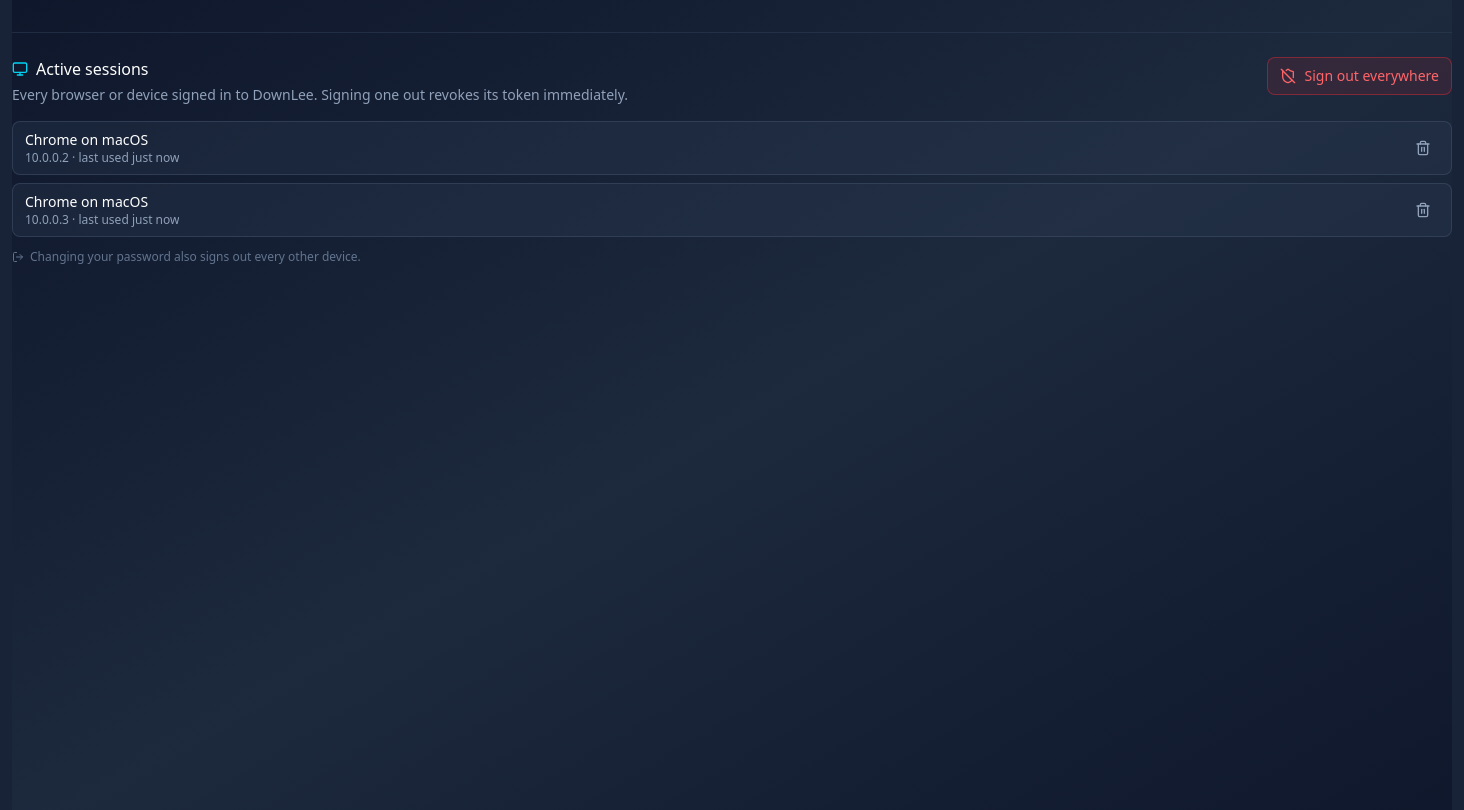
it: SessionsSettings › signing one device out revokes it and reloads the list
Click the button titled "Sign this device out" in the row of "10.0.0.3".
click(1423, 210)  # box left=1407, top=194, right=1439, bottom=226
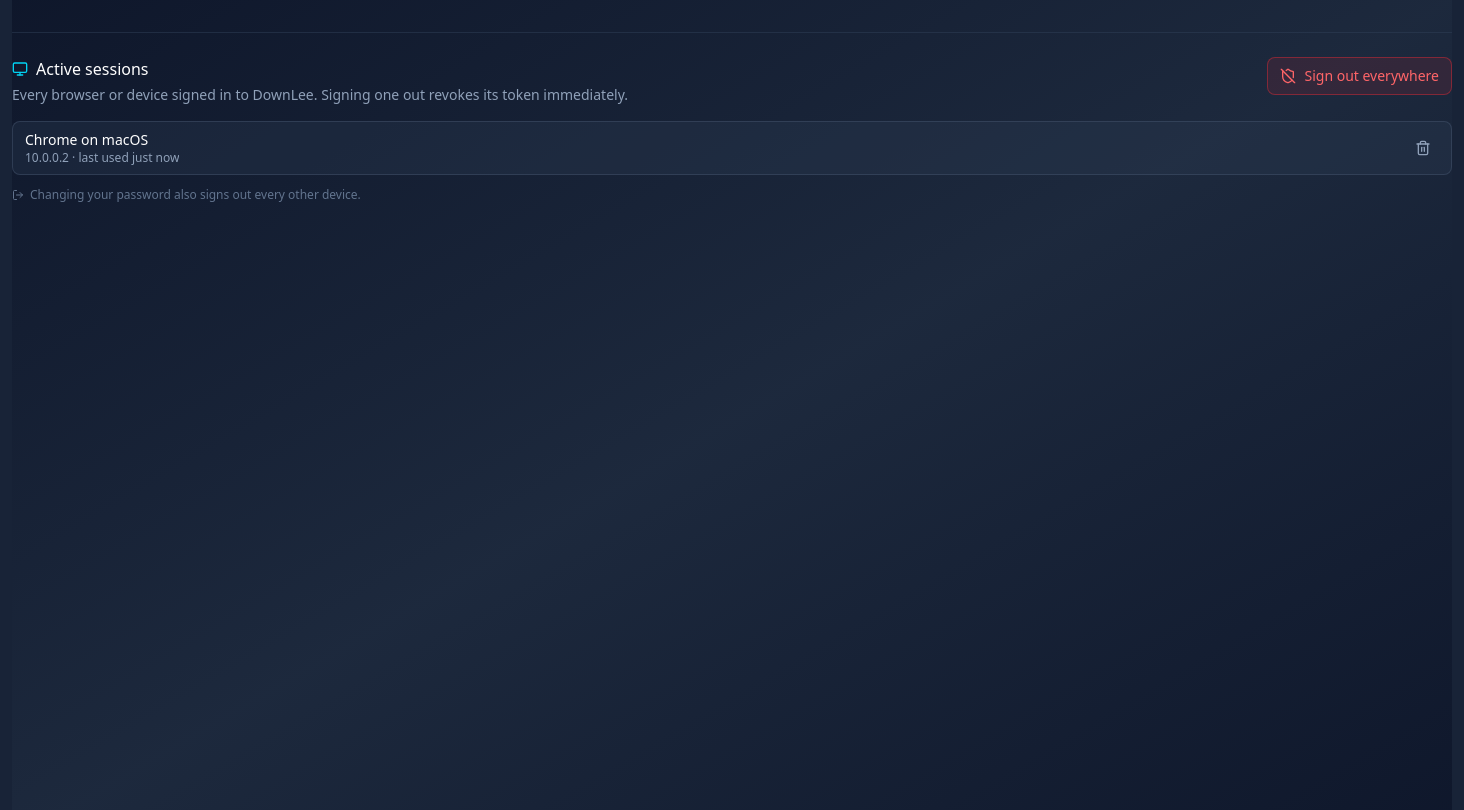
Expected: the number of buttons titled "Sign this device out" is 1, left=1407, top=132, right=1439, bottom=164
